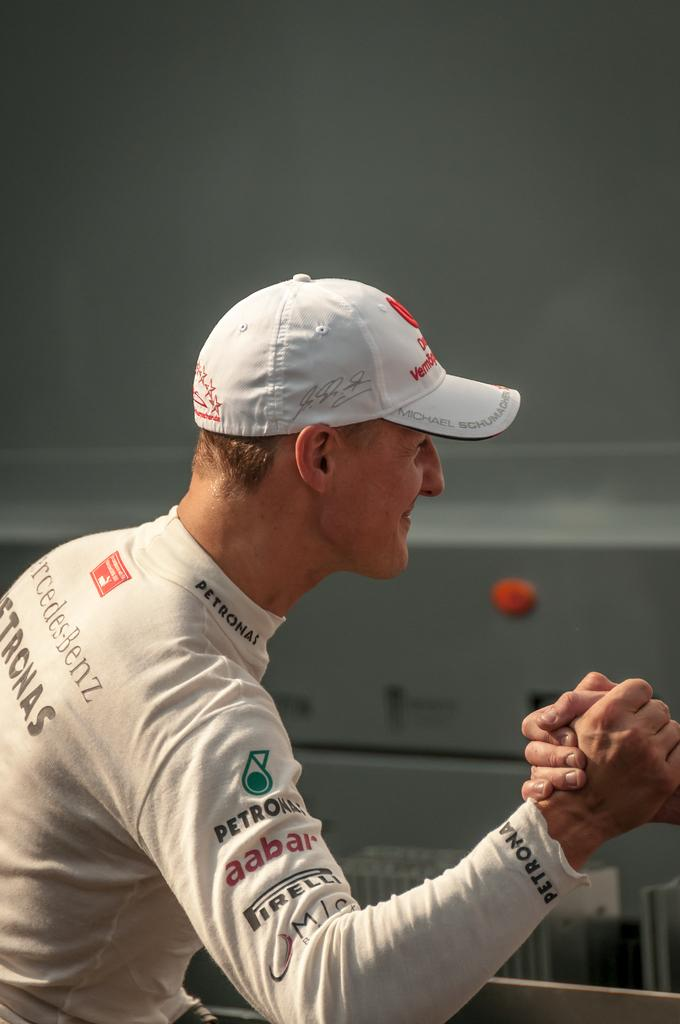Hat: (189, 276, 521, 438)
